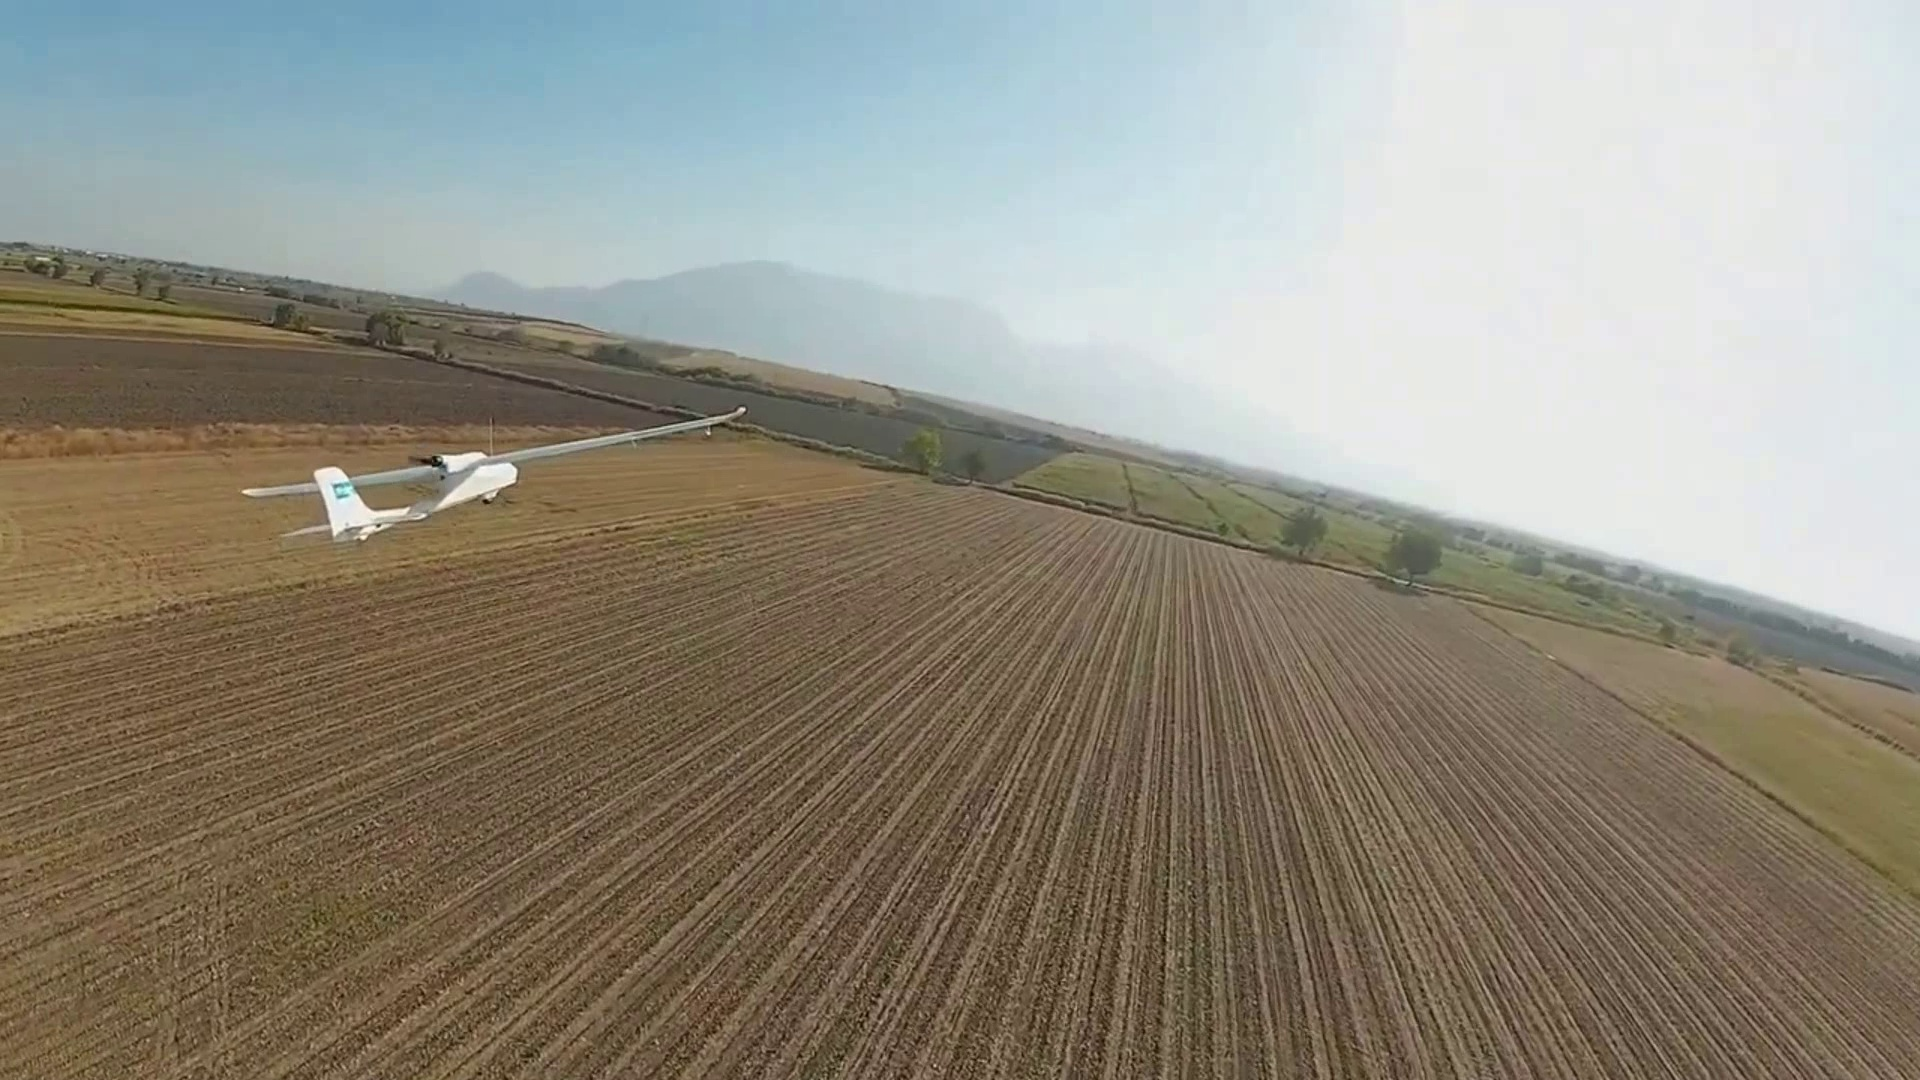airplane: (240, 415, 745, 545), (240, 454, 521, 543)
